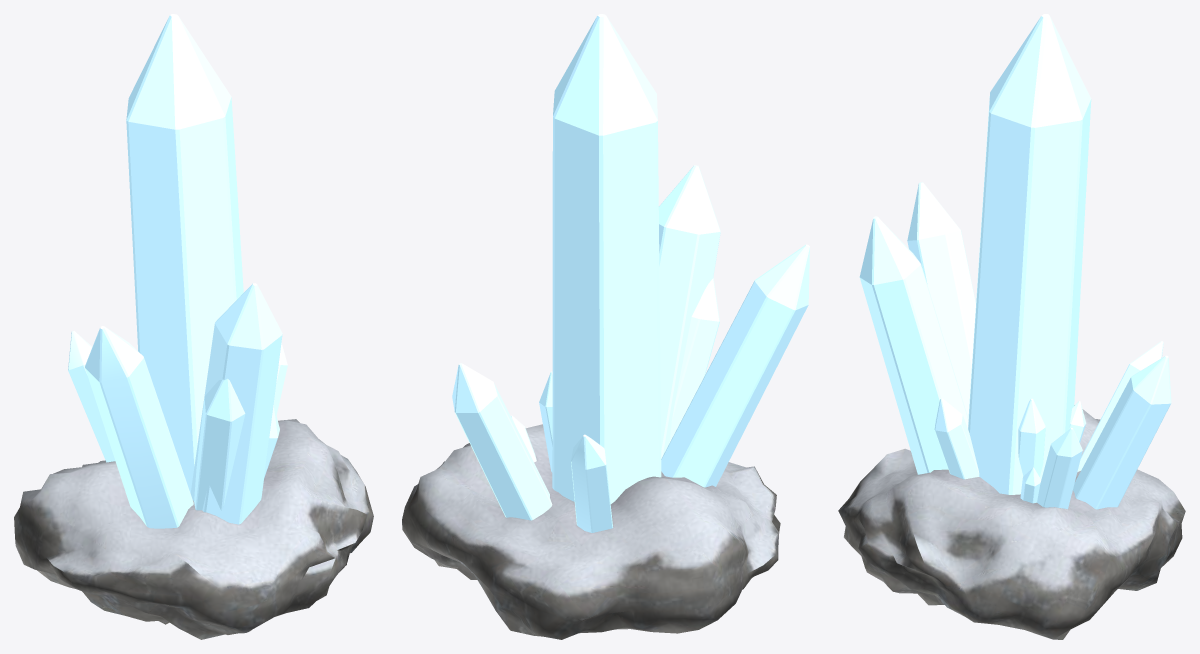
Rendered from ice_crystals.glb.
3 renders of one model, left to right at view 1: azimuth 30°, elevation 25°; view 2: azimuth 150°, elevation 25°; view 3: azimuth 270°, elevation 25°, orthographic. The views are drawn at different scales.
Visible parts, largest first — view 1: crystal_ice, crystal_base; view 2: crystal_ice, crystal_base; view 3: crystal_ice, crystal_base.
Part boxes in pixels (box(x1,y1,x2,y2)): crystal_ice: box(68, 14, 287, 528); crystal_base: box(14, 419, 373, 639); crystal_ice: box(452, 14, 809, 532); crystal_base: box(402, 424, 780, 639); crystal_ice: box(859, 14, 1171, 509); crystal_base: box(838, 405, 1185, 639).
Bounding box in the file's own units: 1.77 × 3.08 × 1.67.
Materials: 2 (1 with a texture image).
